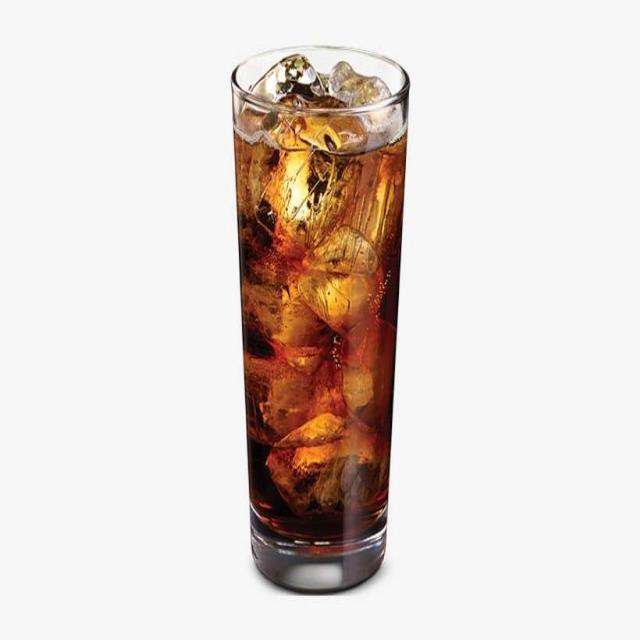Coke: (226, 42, 416, 596)
